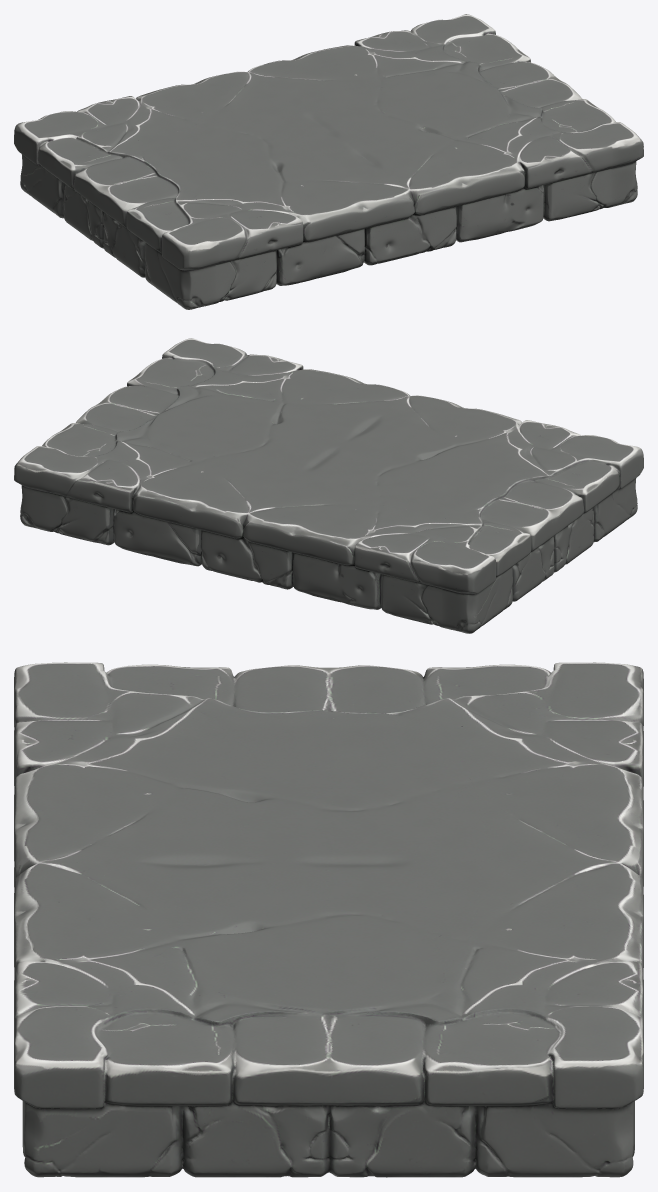
Rendered from Meshy_AI_Stone_Block_Platform_0612231034_texture.fbx.
3 views of the same model, one above another, from view 1: azimuth 30°, elevation 25°; view 2: azimuth 150°, elevation 25°; view 3: azimuth 270°, elevation 25° (orthographic). The views are drawn at different scales.
Parts seen in each view (by area): view 1: Mesh_0; view 2: Mesh_0; view 3: Mesh_0.
Part boxes in pixels (x1,y1,x2,y2): Mesh_0: (14, 14, 643, 309); Mesh_0: (14, 338, 643, 633); Mesh_0: (14, 662, 643, 1177).
Bounding box in the file's own units: 190 × 25.93 × 125.
1 material, 1 textured.
